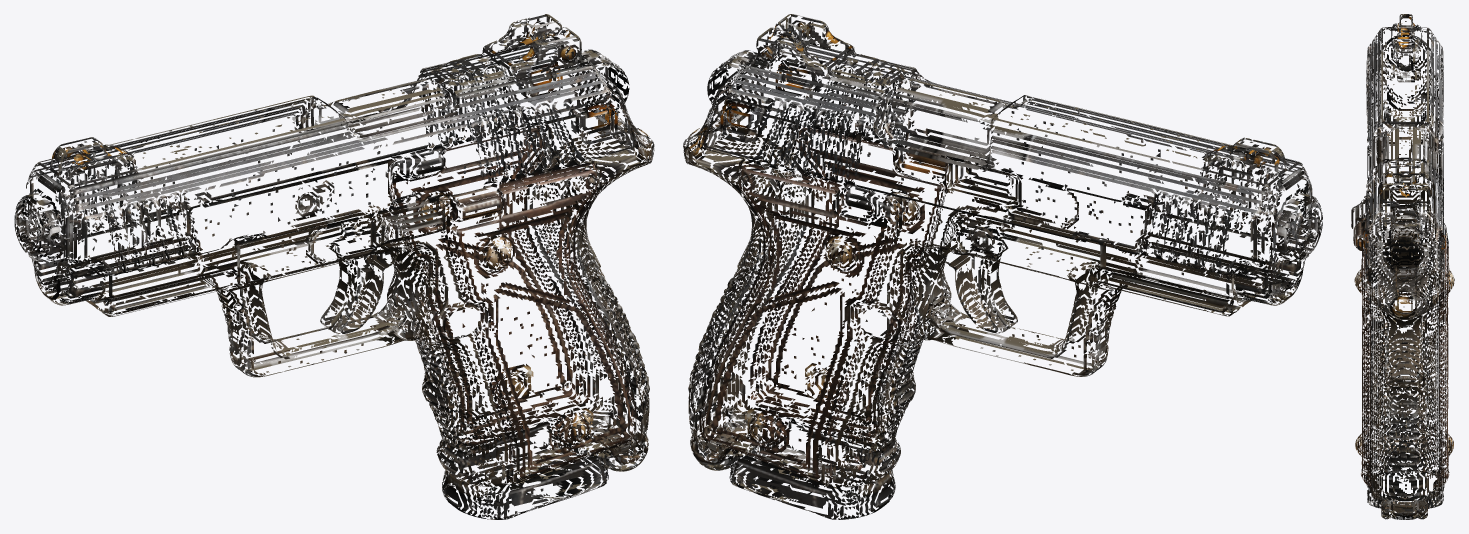
File: sidearm.fbx
The picture shows the model from 3 angles, left to right: view 1: azimuth 30°, elevation 25°; view 2: azimuth 150°, elevation 25°; view 3: azimuth 270°, elevation 25°; orthographic projection. The views are drawn at different scales.
Visible parts, largest first — view 1: geometry_0; view 2: geometry_0; view 3: geometry_0.
Boxes of the visible parts, bbox=[...] form: geometry_0: bbox=[14, 14, 654, 519]; geometry_0: bbox=[683, 14, 1322, 519]; geometry_0: bbox=[1351, 14, 1454, 519].
Bounding box in the file's own units: 199 × 141 × 40.9.
Materials: 1 (1 with a texture image).
